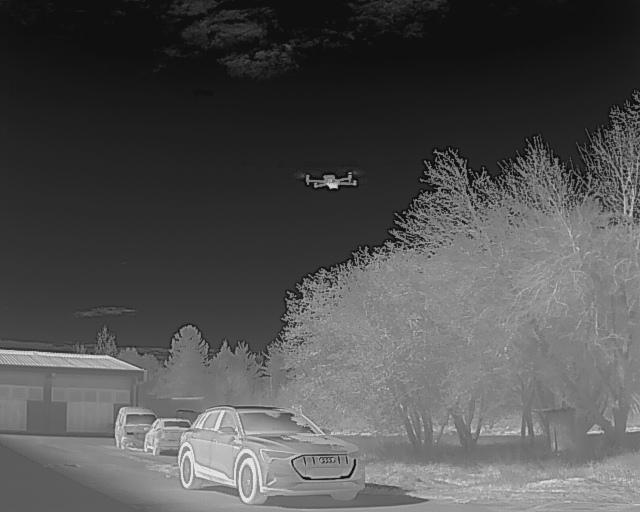drone: (295, 164, 362, 198)
